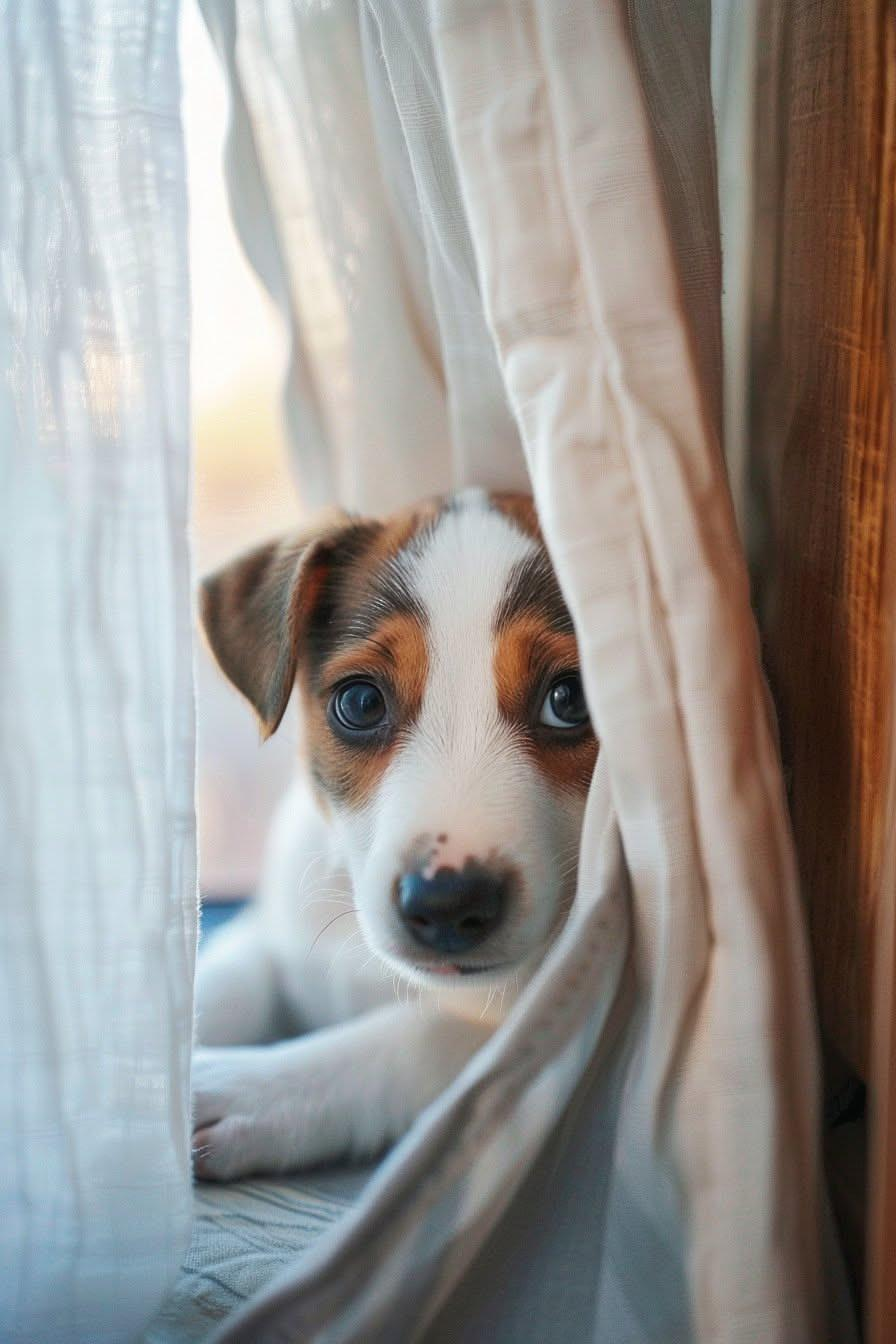puppy-dog: (188, 486, 606, 1184)
